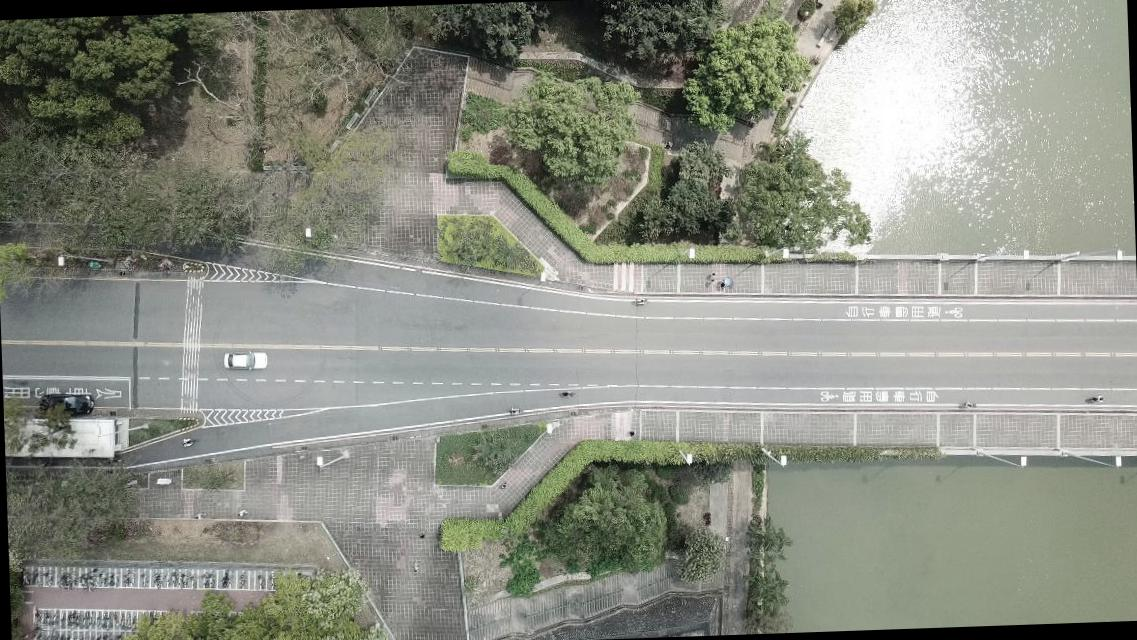vehicle: (39, 392, 93, 418), (222, 350, 266, 371)
